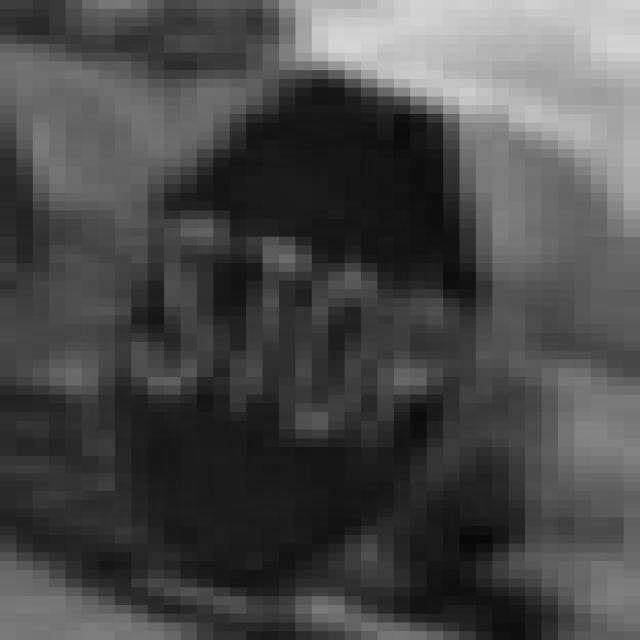stop: (104, 54, 482, 587)
